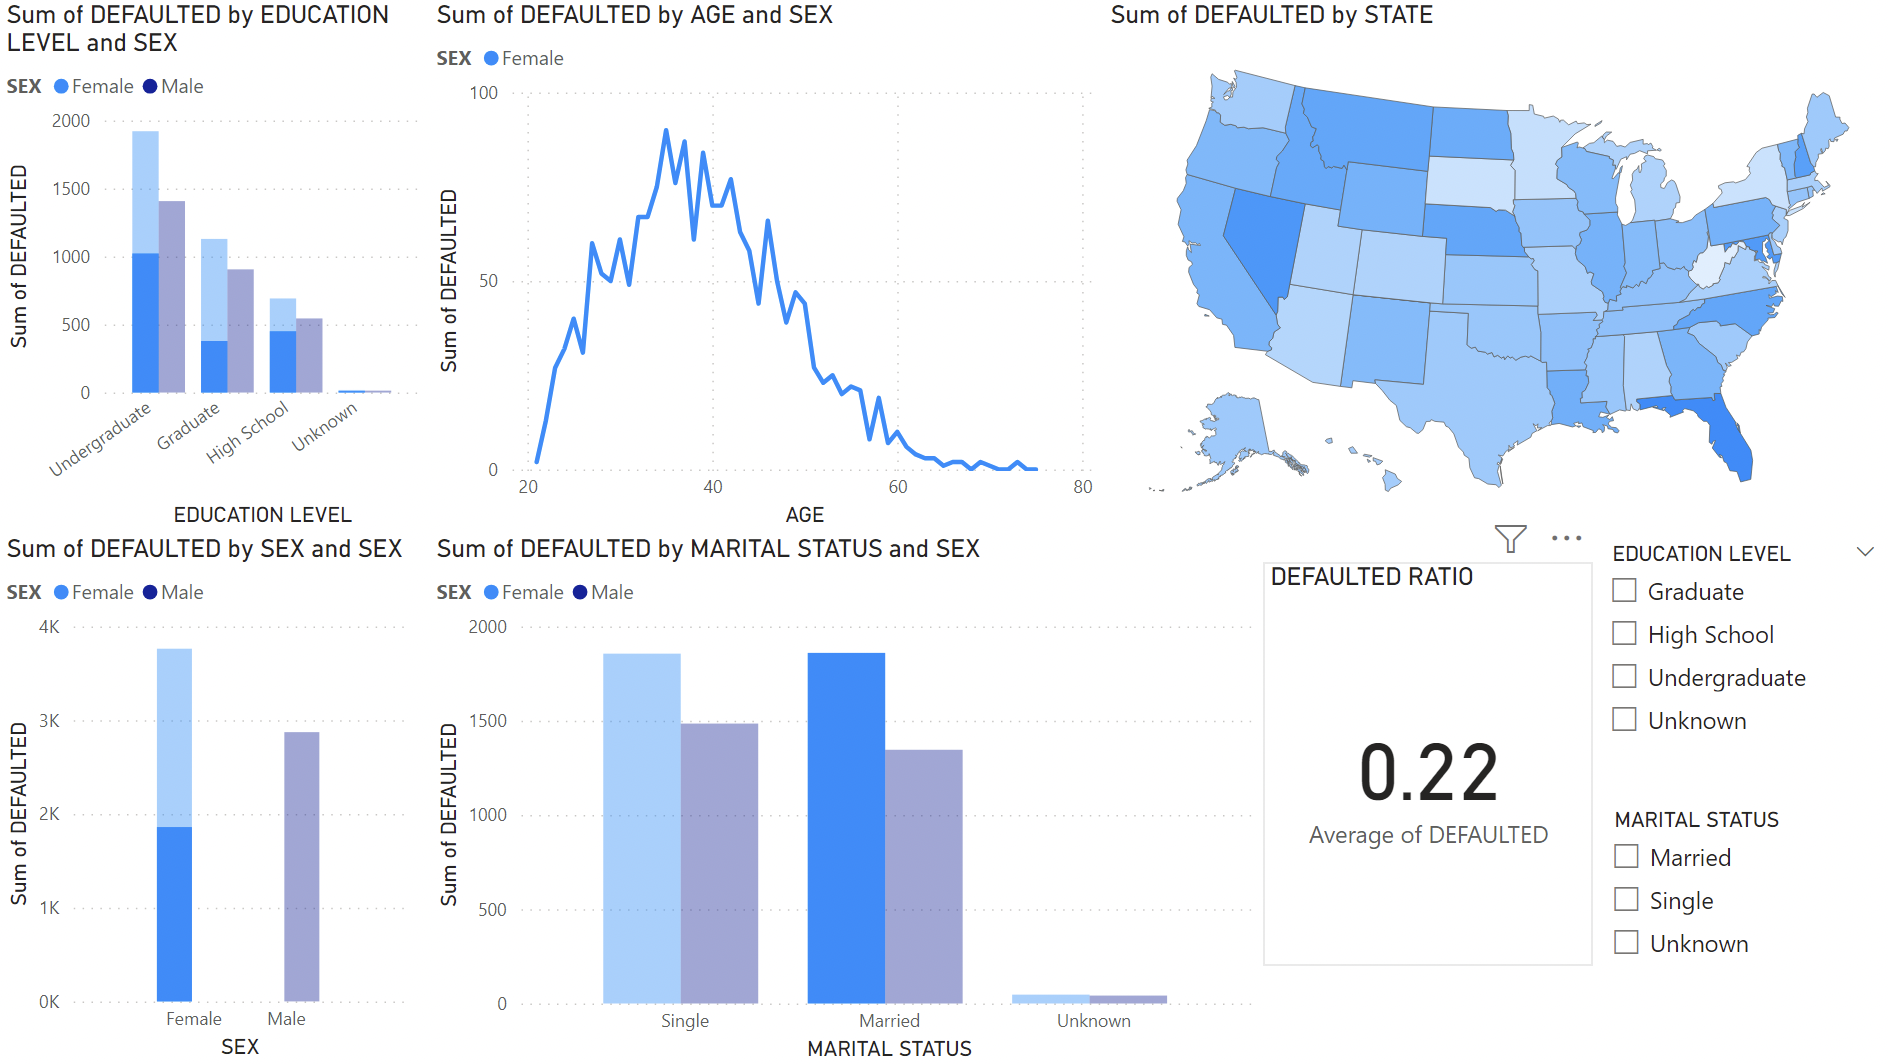

Layout of this report page (visuals, bound fields, positions):
{"tool":"powerbi","page":{"name":"Page 1","canvas":[1280,720],"ordinal":0},"visuals":[{"type":"clusteredColumnChart","fields":{"Y":["Sum(Data.DEFAULTED)"],"Category":["Data.EDUCATION LEVEL"],"Series":["Data.SEX"]},"box":[0,0,290.1,360.6],"z":0},{"type":"lineChart","fields":{"Category":["Data.AGE"],"Y":["Sum(Data.DEFAULTED)"],"Series":["Data.SEX"]},"box":[290.1,0,456.3,360.6],"z":1000},{"type":"clusteredColumnChart","fields":{"Y":["Sum(Data.DEFAULTED)"],"Category":["Data.SEX"],"Series":["Data.SEX"]},"box":[0,360.6,280.3,359.2],"z":2000},{"type":"shapeMap","fields":{"Category":["Data.STATE"],"Value":["Sum(Data.DEFAULTED)"]},"box":[746.5,0,535.2,360.6],"z":3000},{"type":"clusteredColumnChart","fields":{"Y":["Sum(Data.DEFAULTED)"],"Category":["Data.MARITAL STATUS"],"Series":["Data.SEX"]},"box":[290.1,360.6,564.8,360.6],"z":4000},{"type":"card","title":"DEFAULTED RATIO","fields":{"Values":["Avg(Data.DEFAULTED)"]},"box":[853.5,380.3,223.9,271.8],"z":4001},{"type":"slicer","fields":{"Values":["Data.EDUCATION LEVEL"]},"box":[1077.5,360.6,202.8,180.3],"z":4002},{"type":"slicer","fields":{"Values":["Data.MARITAL STATUS"]},"box":[1078.9,540.8,204.2,181.7],"z":4003}]}

Visuals, with their boxes in screenshot pixels (x1, y1, x2, y2), scaled from the page's 1280x720 canvas onto the 1888x1064 screenshot:
clusteredColumnChart - Sum(Data.DEFAULTED) x Data.EDUCATION LEVEL: bbox=(0, 0, 428, 533)
lineChart - Data.AGE x Sum(Data.DEFAULTED): bbox=(428, 0, 1101, 533)
clusteredColumnChart - Sum(Data.DEFAULTED) x Data.SEX: bbox=(0, 533, 413, 1063)
shapeMap - Data.STATE x Sum(Data.DEFAULTED): bbox=(1101, 0, 1887, 533)
clusteredColumnChart - Sum(Data.DEFAULTED) x Data.MARITAL STATUS: bbox=(428, 533, 1261, 1063)
"DEFAULTED RATIO" card: bbox=(1259, 562, 1589, 964)
slicer - Data.EDUCATION LEVEL: bbox=(1589, 533, 1887, 799)
slicer - Data.MARITAL STATUS: bbox=(1591, 799, 1887, 1063)
